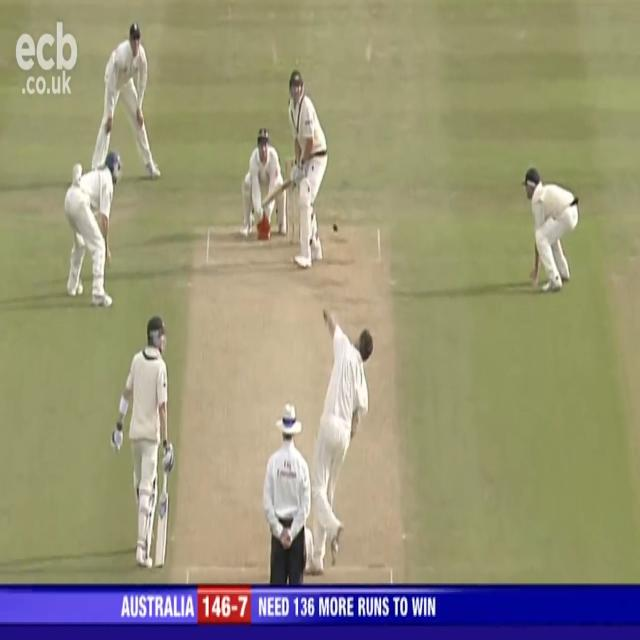ball: (331, 221, 341, 235)
